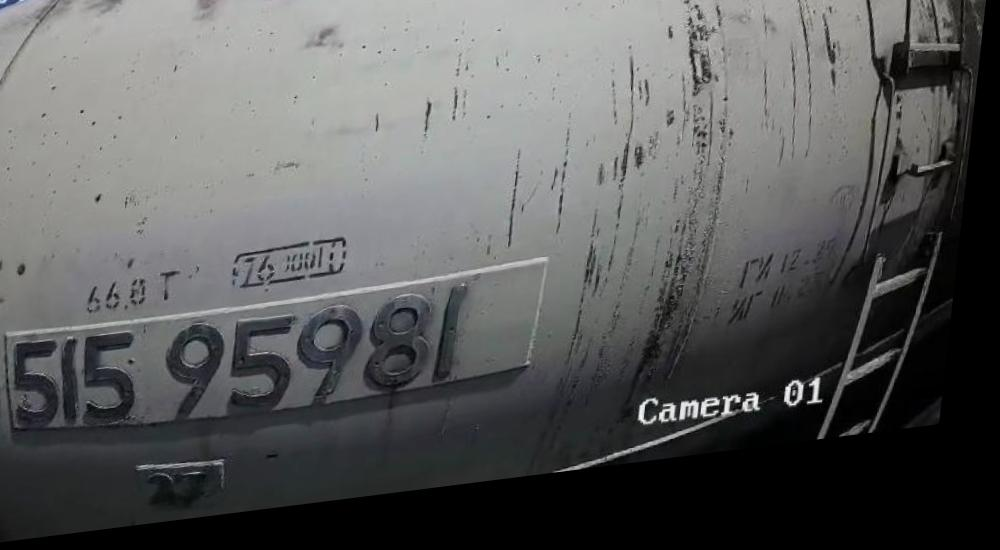Wagon-number: (5, 284, 487, 447)
